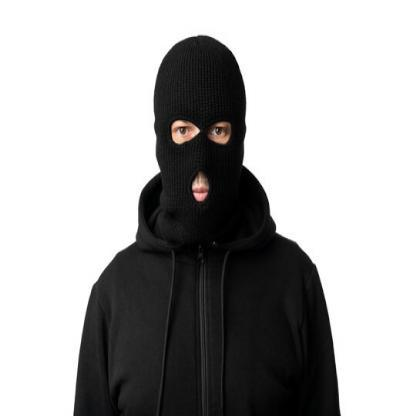criminal: (73, 35, 341, 416)
